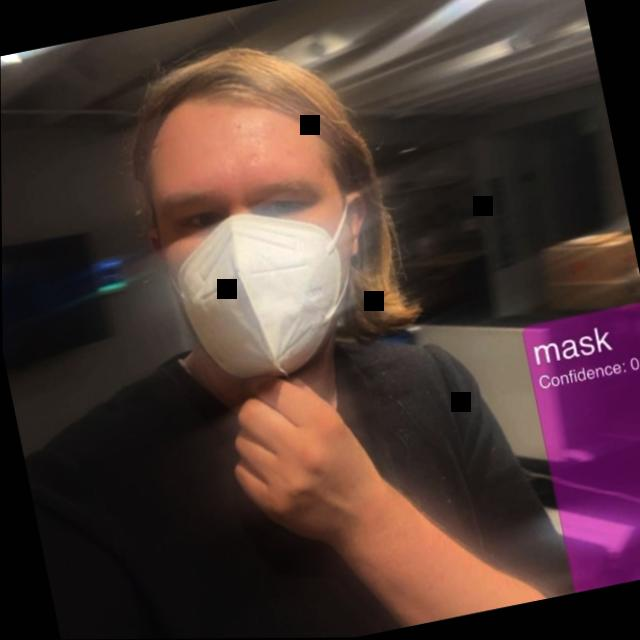Mask: (100, 1, 426, 386)
